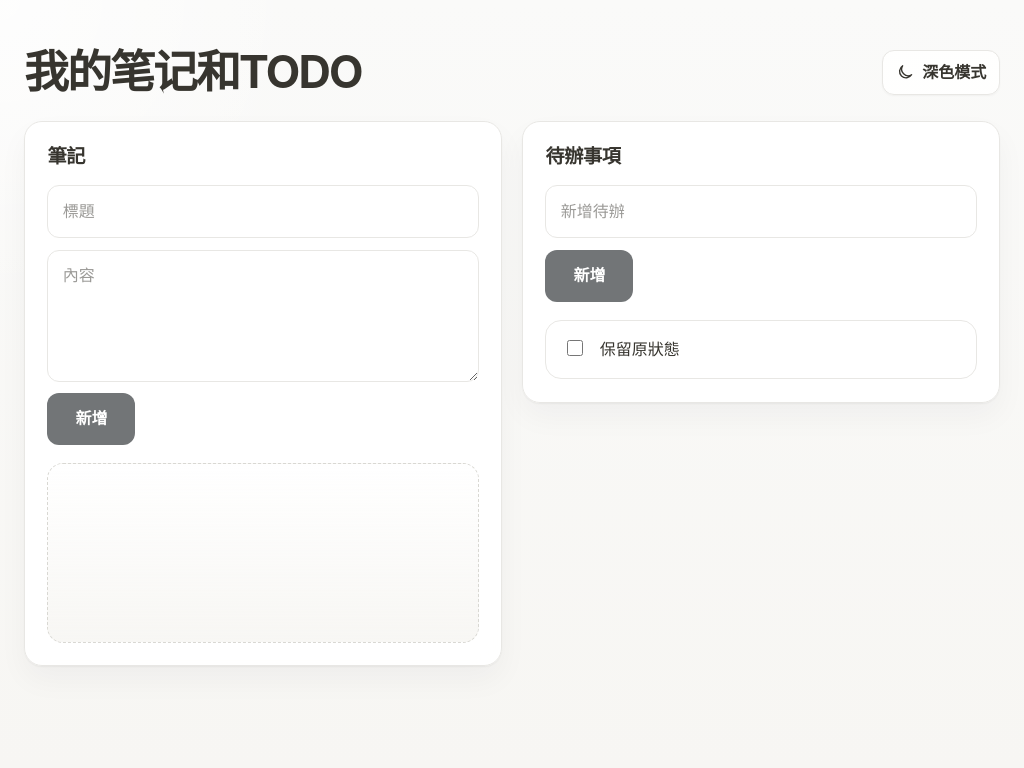
Test: HomeClient interactions › shows a visible error and preserves state when toggle fails
Click the checkbox named "切換待辦：保留原狀態": (575, 348) [567,340,583,356]
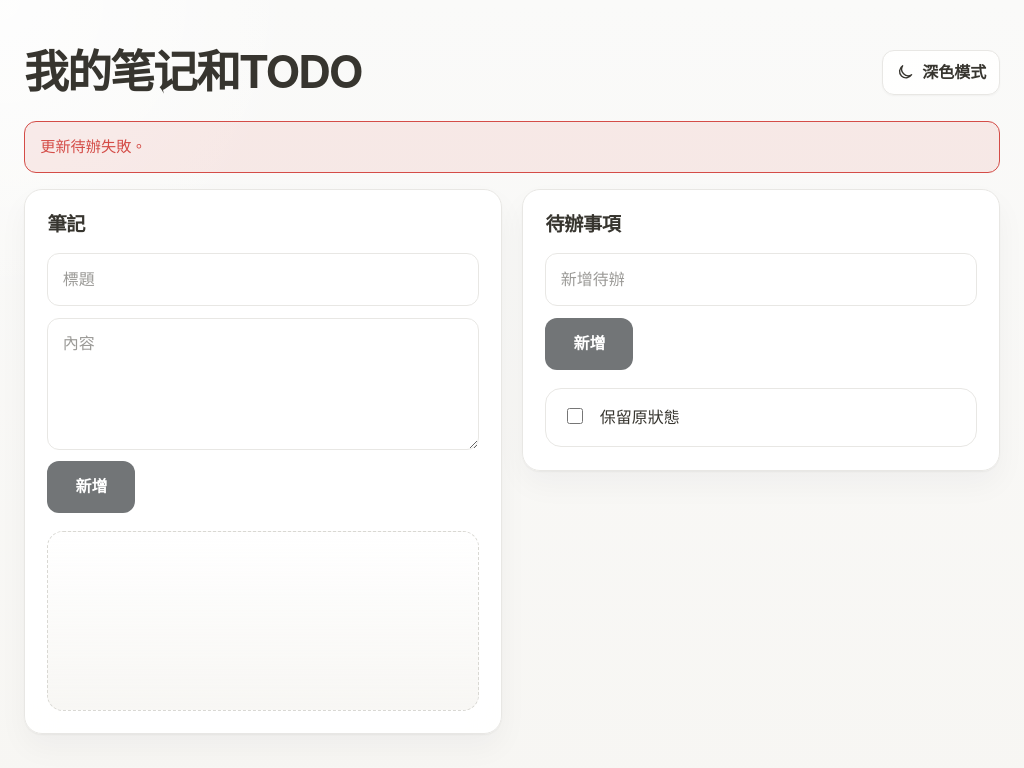
Expected: the checkbox named "切換待辦：保留原狀態" is not checked, [567,408,583,424]
Result: the message reads "更新待辦失敗。" at [40,137,146,156]
